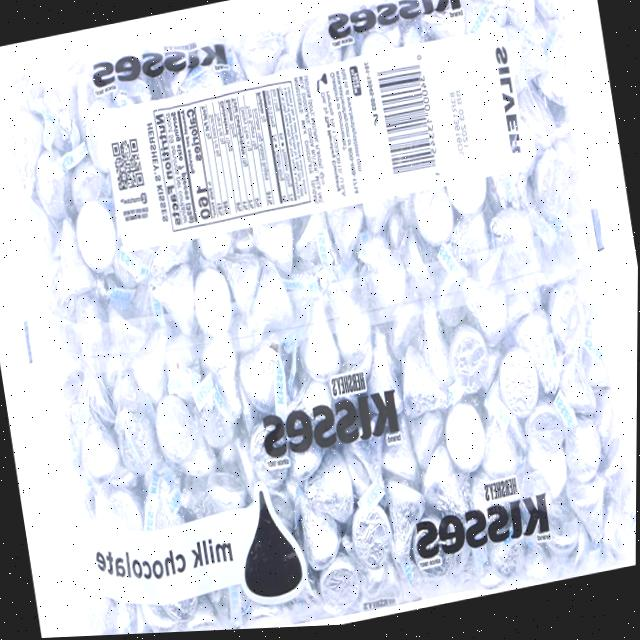kisses: (500, 307, 572, 425), (134, 236, 210, 346), (433, 314, 500, 425), (557, 467, 623, 577), (473, 196, 547, 283), (57, 178, 123, 274), (103, 395, 165, 489), (185, 372, 240, 468), (1, 92, 54, 188)
